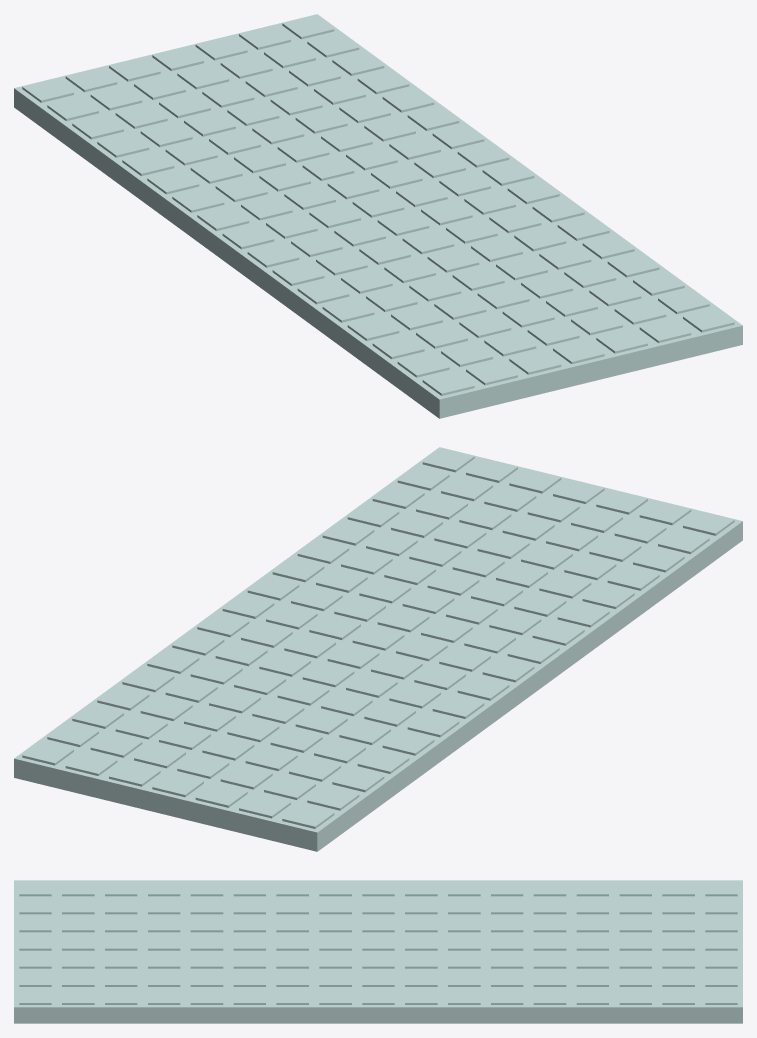
File: glass_floor.fbx
3 views of the same model, one above another, from view 1: azimuth 30°, elevation 25°; view 2: azimuth 150°, elevation 25°; view 3: azimuth 270°, elevation 25° (orthographic). The views are drawn at different scales.
Parts seen in each view (by area): view 1: gray_floor_small; view 2: gray_floor_small; view 3: gray_floor_small.
Boxes of the visible parts, left/top/right/bottom form: gray_floor_small: left=14, top=14, right=742, bottom=418; gray_floor_small: left=14, top=447, right=742, bottom=851; gray_floor_small: left=14, top=880, right=742, bottom=1023.
Bounding box in the file's own units: 1.65 × 0.112 × 4.
